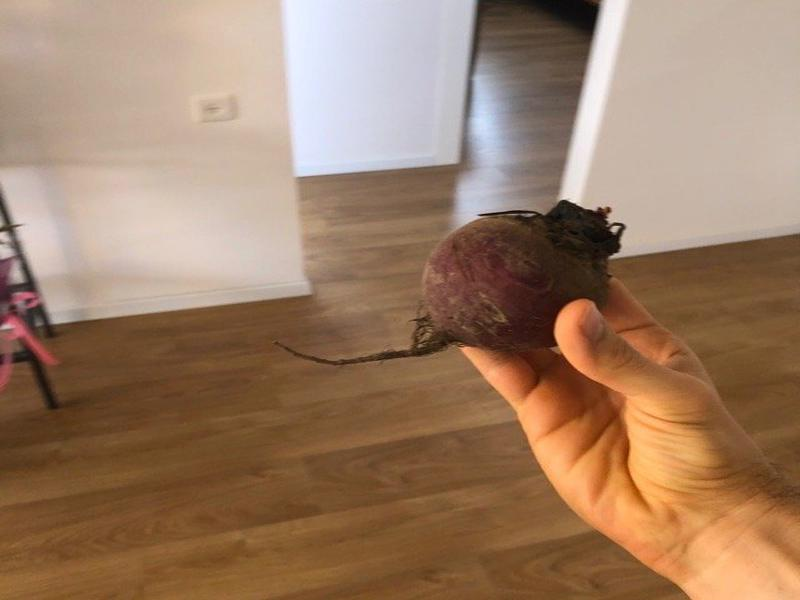Beet: (272, 202, 620, 364)
